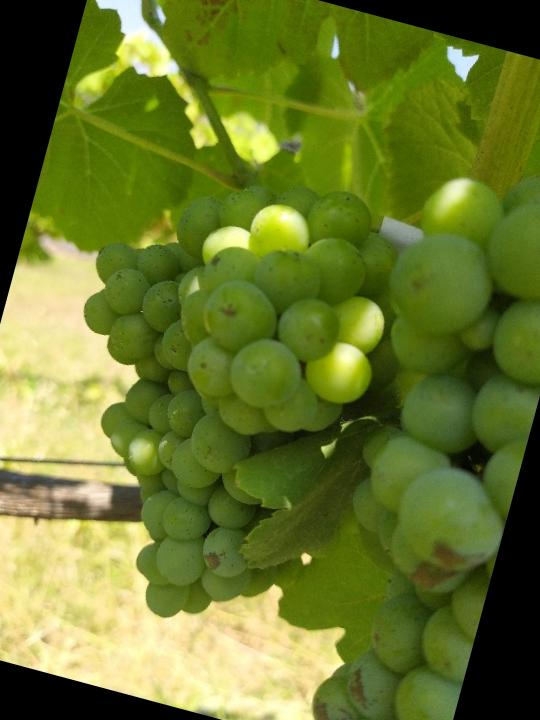grape: (7, 131, 428, 658)
